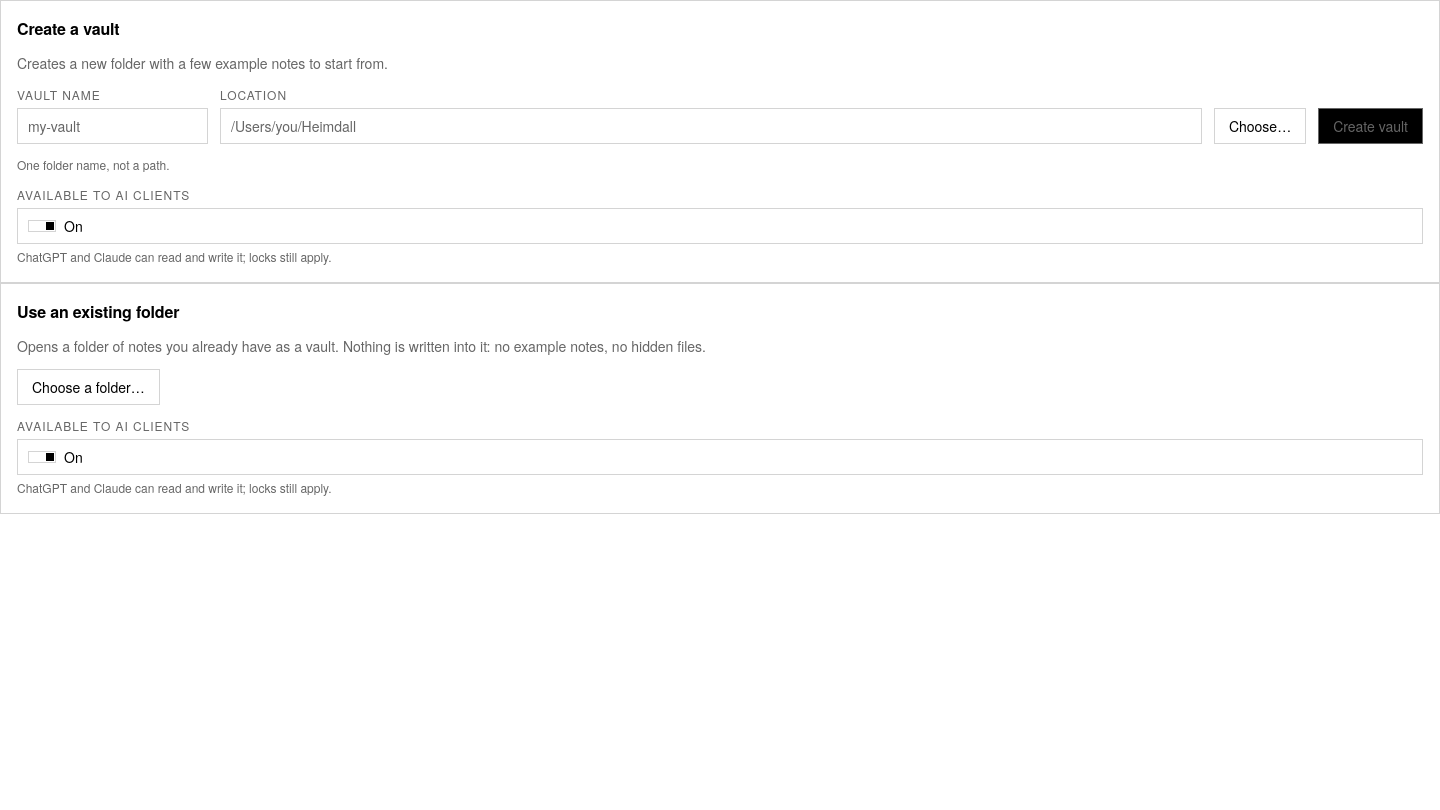
Test: Setup › creates a templated vault and reports what was written
Type "demo" into the field labelled "Vault name" at (112, 126), box [17,108,208,144]
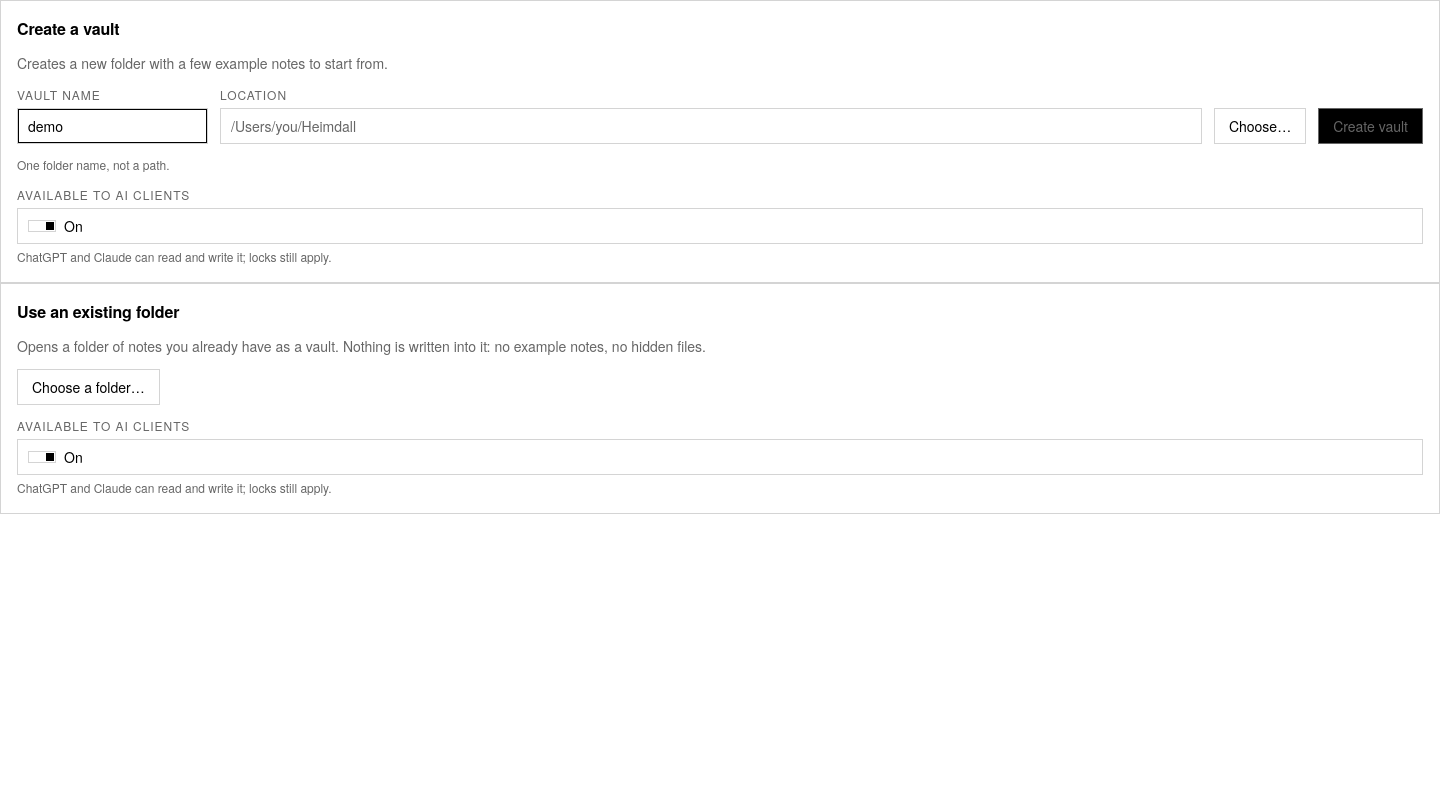
Type "/Users/n/Documents" into the field labelled "Location" at (711, 126), box [220,108,1202,144]
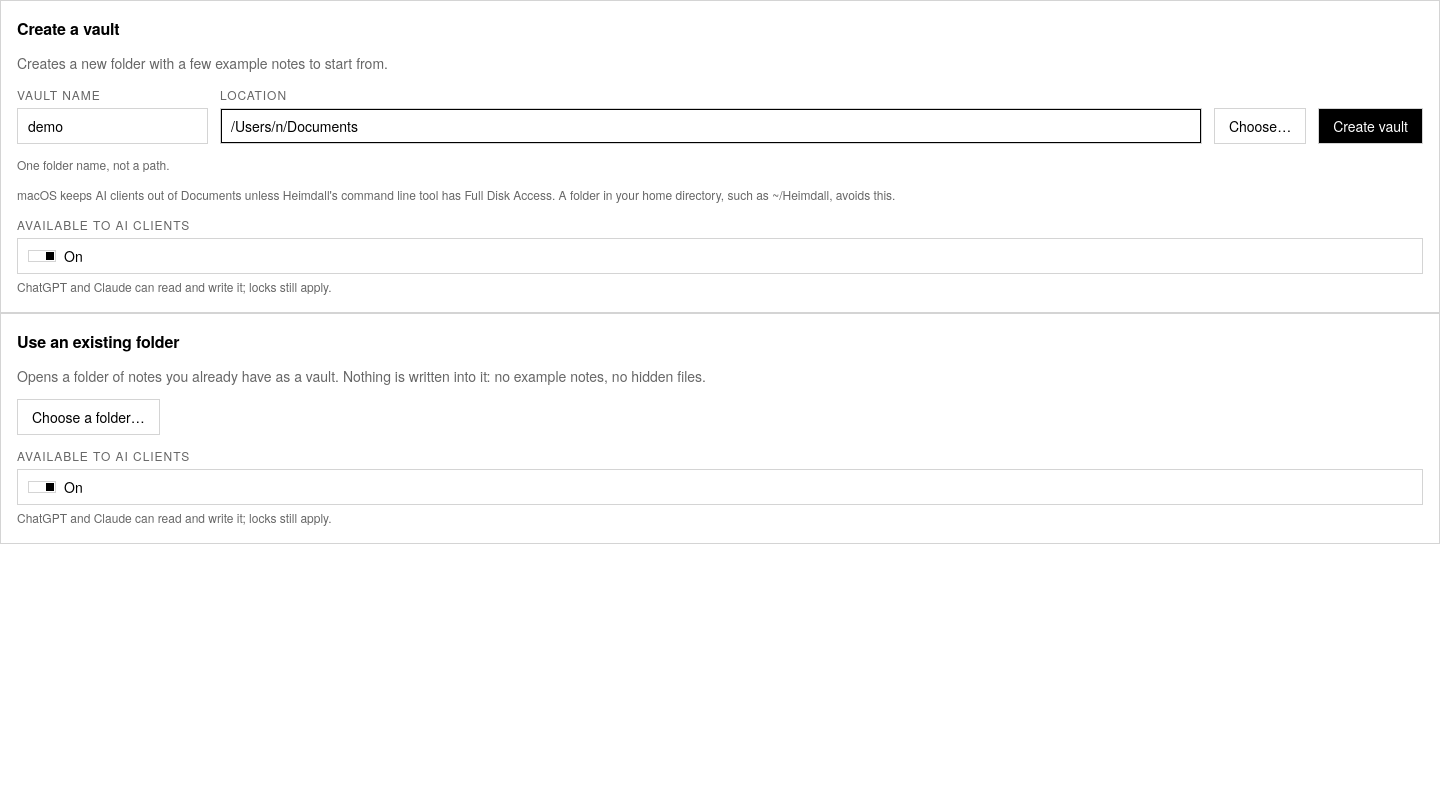
Click the button "Create vault" at (1371, 126), box [1318,108,1423,144]
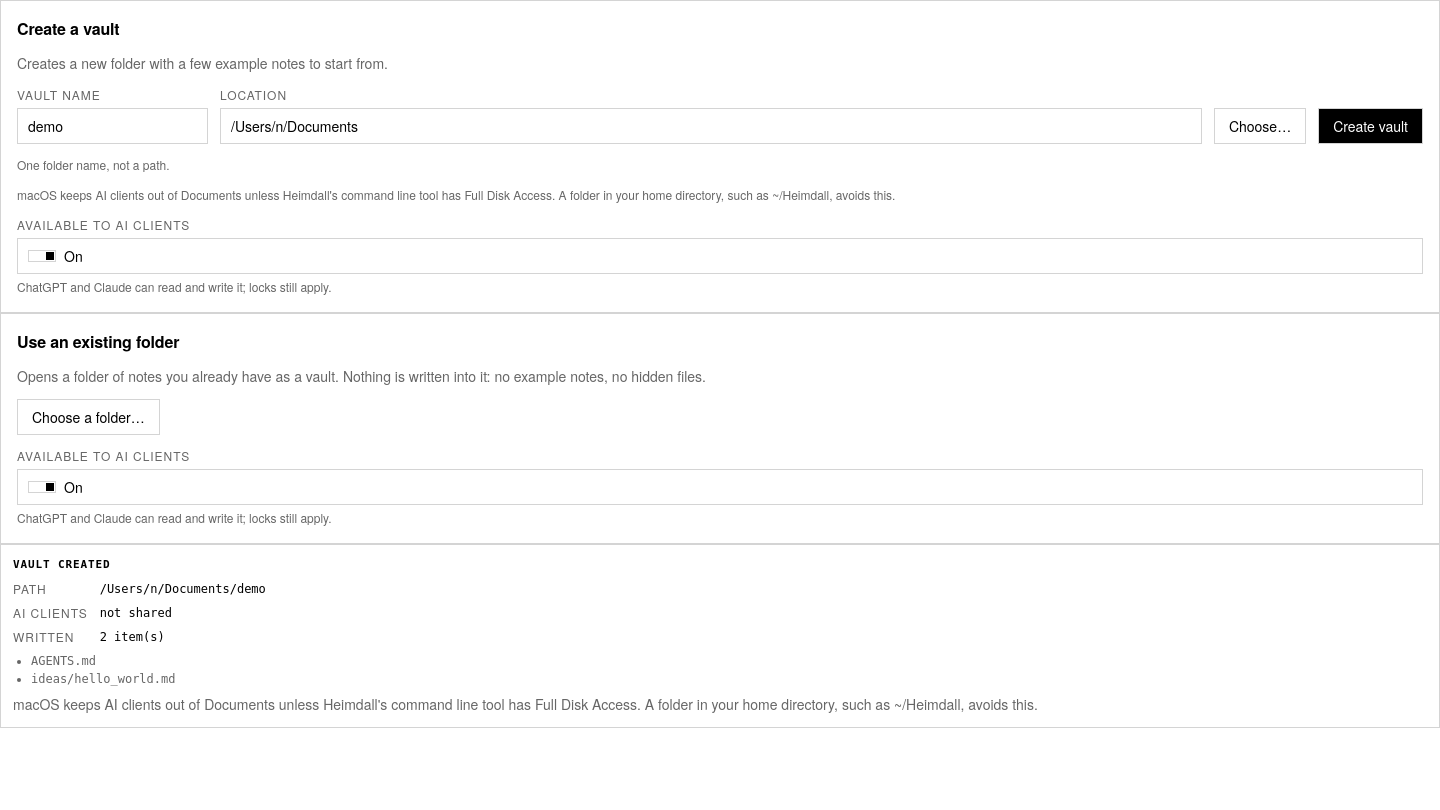
Expected: the text "Vault created" is shown, [13,558,110,571]
Expected: the list item "ideas/hello_world.md" is shown, [31,672,176,686]
